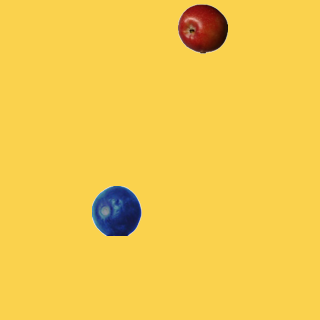Apple Braeburn: (177, 3, 227, 53)
Huckleberry: (91, 185, 141, 235)
